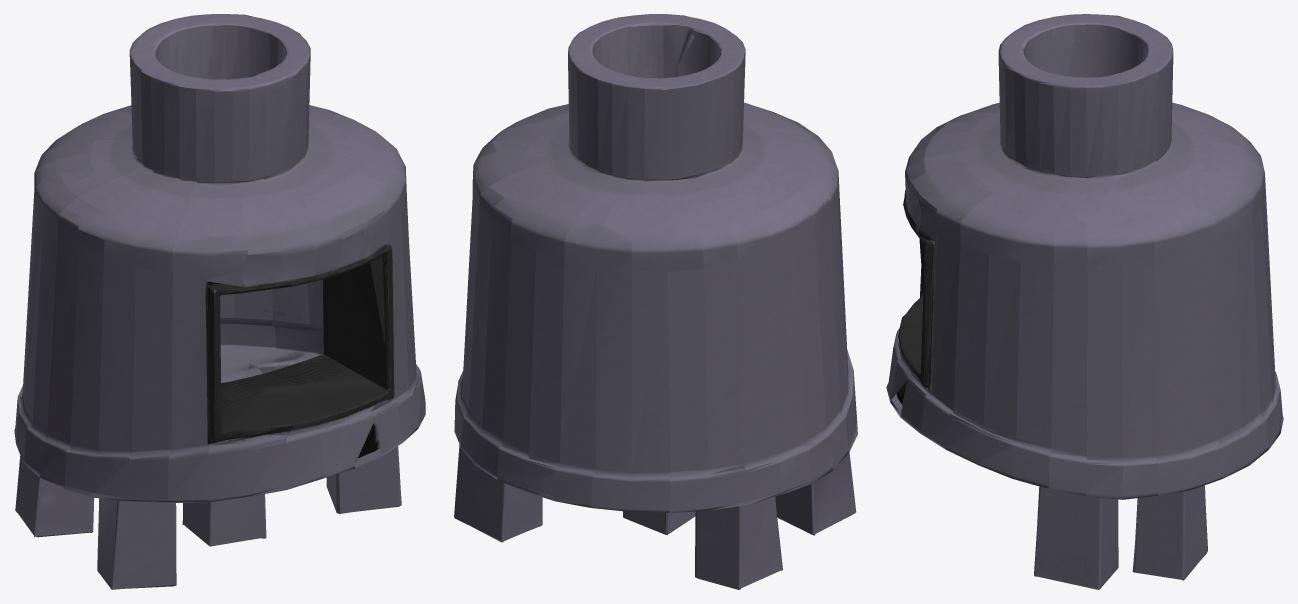
The model's file is smelter.glb.
3 renders of one model, left to right at view 1: azimuth 30°, elevation 25°; view 2: azimuth 150°, elevation 25°; view 3: azimuth 270°, elevation 25°, orthographic. The views are drawn at different scales.
Bounding box in the file's own units: 0.793 × 1 × 0.7852.
1 material, 1 textured.
